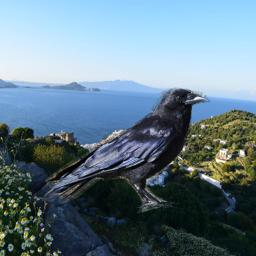Crow: (42, 84, 211, 214)
